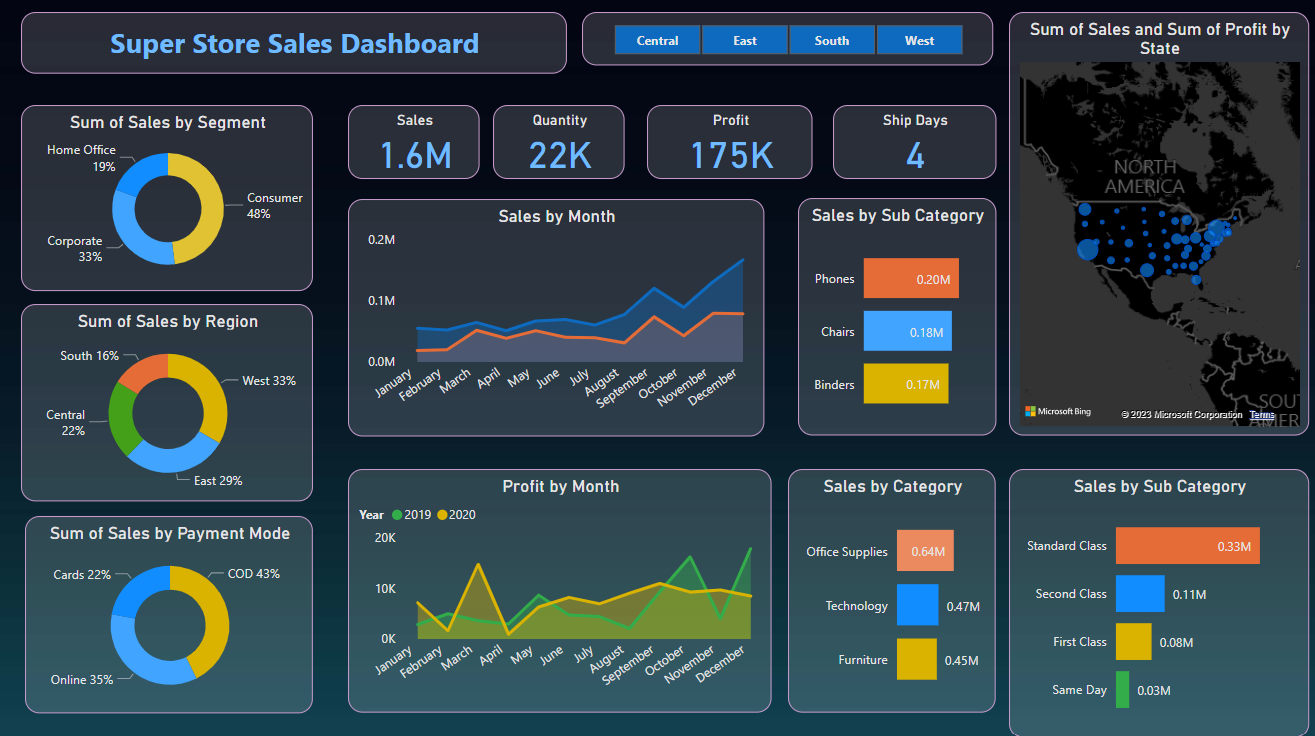

Layout of this report page (visuals, bound fields, positions):
{"tool":"powerbi","page":{"name":"Sales Dashboard","canvas":[1280,720],"ordinal":0},"visuals":[{"type":"clusteredBarChart","title":"Sales by Category","fields":{"Category":["Sheet1.Category"],"Y":["Sum(Sheet1.Sales)"]},"box":[766.4,458.1,202.3,237.3],"z":0},{"type":"clusteredBarChart","title":"Sales by Sub Category","fields":{"Category":["Sheet1.Sub-Category"],"Y":["Sum(Sheet1.Sales)"]},"box":[776.2,194.5,192.6,231.5],"z":1000},{"type":"clusteredBarChart","title":"Sales by Sub Category","fields":{"Category":["Sheet1.Ship Mode"],"Y":["Sum(Sheet1.Sales)"]},"box":[981.4,458.1,291.8,261.6],"z":2000},{"type":"areaChart","title":"Sales by Month","fields":{"Y":["Sum(Sheet1.Sales)"],"Series":["Sheet1.Order Date.Variation.Date Hierarchy.Year"],"Category":["Sheet1.Order Date.Variation.Date Hierarchy.Month"]},"box":[338.5,195.5,404.6,230.5],"z":3000},{"type":"areaChart","title":"Profit by Month","fields":{"Series":["Sheet1.Order Date.Variation.Date Hierarchy.Year"],"Category":["Sheet1.Order Date.Variation.Date Hierarchy.Month"],"Y":["Sum(Sheet1.Profit)"]},"box":[338.5,458.1,412.4,237.3],"z":4000},{"type":"map","fields":{"Category":["Sheet1.State"],"Size":["Sum(Sheet1.Sales)"]},"box":[981.4,13.6,291.8,412.4],"z":5000},{"type":"donutChart","fields":{"Category":["Sheet1.Segment"],"Y":["Sum(Sheet1.Sales)"]},"box":[20.4,104.1,284,180.9],"z":6000},{"type":"donutChart","fields":{"Y":["Sum(Sheet1.Sales)"],"Category":["Sheet1.Region"]},"box":[20.4,297.6,284,191.6],"z":7000},{"type":"donutChart","fields":{"Y":["Sum(Sheet1.Sales)"],"Category":["Sheet1.Payment Mode"]},"box":[24.3,503.8,280.1,191.6],"z":8000},{"type":"slicer","fields":{"Values":["Sheet1.Region"]},"box":[566.1,13.6,399.8,51.6],"z":9000},{"type":"textbox","box":[20.4,13.6,531.1,60.3],"z":10000},{"type":"card","title":"Sales","fields":{"Values":["Sum(Sheet1.Sales)"]},"box":[338.5,104.1,128.4,72],"z":11000},{"type":"card","title":"Quantity","fields":{"Values":["Sum(Sheet1.Quantity)"]},"box":[479.5,104.1,128.4,72],"z":12000},{"type":"card","title":"Profit","fields":{"Values":["Sum(Sheet1.Profit)"]},"box":[629.3,104.1,161.5,72],"z":13000},{"type":"card","title":"Ship Days","fields":{"Values":["Avg(Sheet1.Avg Delivery)"]},"box":[810.2,104.1,158.5,72],"z":14000}]}

Visuals, with their boxes in screenshot pixels (x1, y1, x2, y2), scaled from the page's 1280x720 canvas onto the 1315x736 screenshot:
"Sales by Category" clusteredBarChart: bbox(787, 468, 995, 711)
"Sales by Sub Category" clusteredBarChart: bbox(797, 199, 995, 435)
"Sales by Sub Category" clusteredBarChart: bbox(1008, 468, 1308, 735)
"Sales by Month" areaChart: bbox(348, 200, 763, 435)
"Profit by Month" areaChart: bbox(348, 468, 771, 711)
map - Sheet1.State x Sum(Sheet1.Sales): bbox(1008, 14, 1308, 435)
donutChart - Sheet1.Segment x Sum(Sheet1.Sales): bbox(21, 106, 313, 291)
donutChart - Sum(Sheet1.Sales) x Sheet1.Region: bbox(21, 304, 313, 500)
donutChart - Sum(Sheet1.Sales) x Sheet1.Payment Mode: bbox(25, 515, 313, 711)
slicer - Sheet1.Region: bbox(582, 14, 992, 67)
textbox: bbox(21, 14, 567, 76)
"Sales" card: bbox(348, 106, 480, 180)
"Quantity" card: bbox(493, 106, 625, 180)
"Profit" card: bbox(647, 106, 812, 180)
"Ship Days" card: bbox(832, 106, 995, 180)
